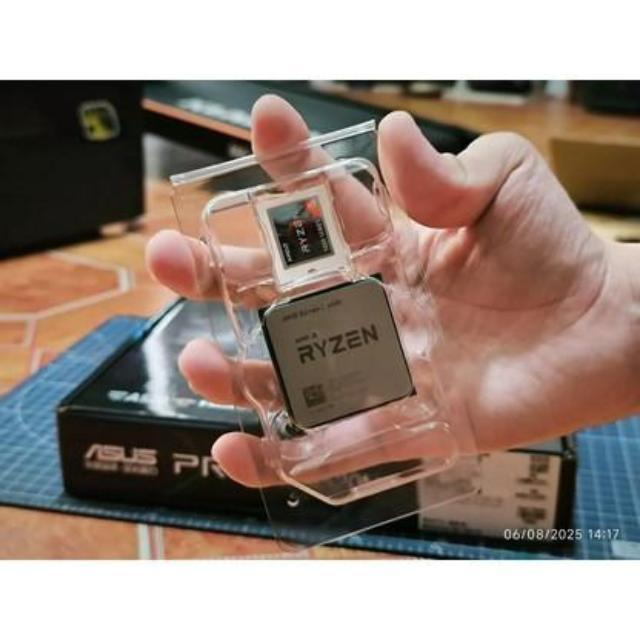CPU: (264, 277, 413, 431)
